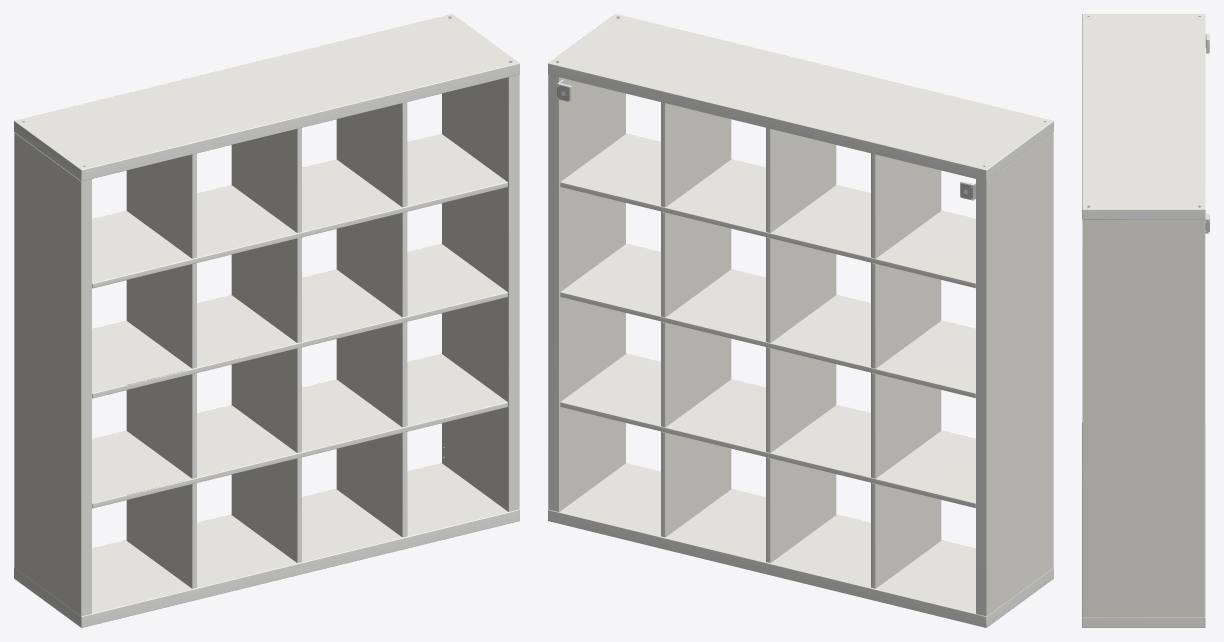
File: 03 - KALLAX Shelving unit - white 147x147 cm.glb
3 views of the same model, side by side, from view 1: azimuth 30°, elevation 25°; view 2: azimuth 150°, elevation 25°; view 3: azimuth 270°, elevation 25° (orthographic). The views are drawn at different scales.
Parts seen in each view (by area): view 1: 30275861-KALLAX001; view 2: 30275861-KALLAX001; view 3: 30275861-KALLAX001.
Part boxes in pixels (bbox=[...]): 30275861-KALLAX001: bbox=[14, 14, 519, 627]; 30275861-KALLAX001: bbox=[548, 14, 1053, 627]; 30275861-KALLAX001: bbox=[1082, 14, 1209, 627].
Bounding box in the file's own units: 1.47 × 1.47 × 0.4051.
1 material, 1 textured.
